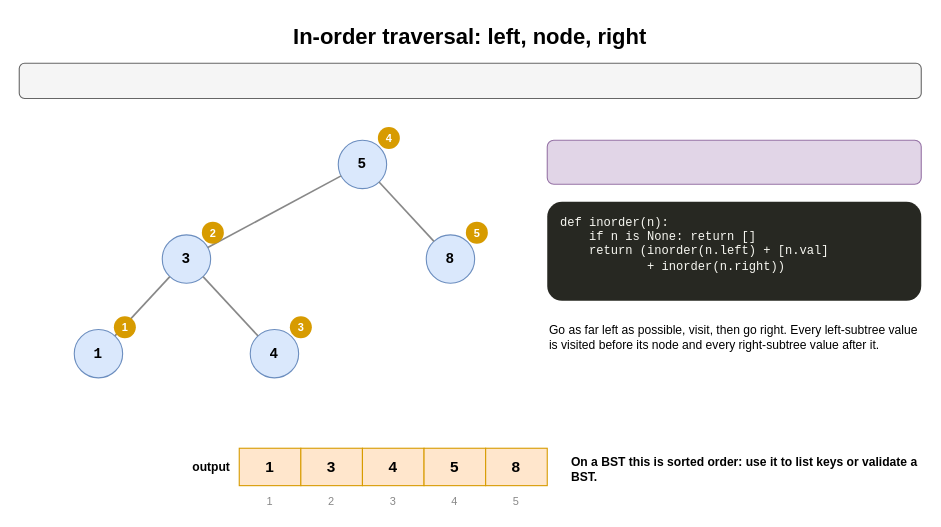
Some shapes in this 941 by 527 pixel diagram are drawn without their labels. Here are the shapes that lost their labels. From the top down, the box of each, then its label:
(18, 62, 921, 98): Orange badges show the visit order on TreeNode(5, 3(1, 4), 8)
(546, 139, 921, 184): left → node → right
